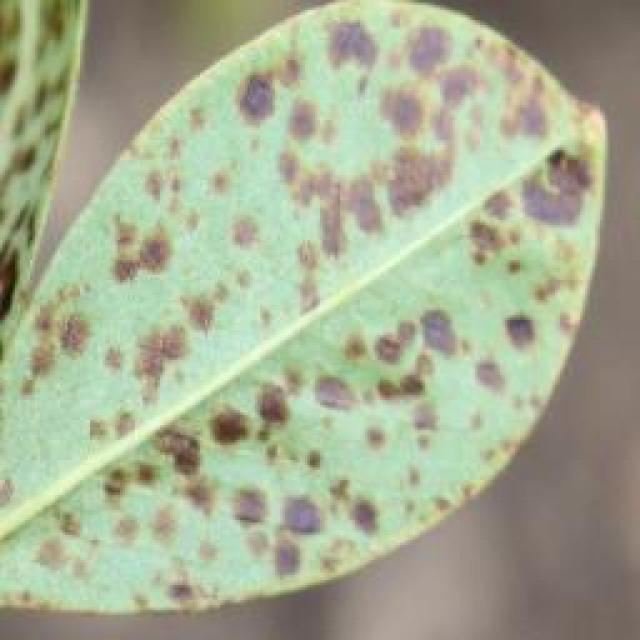Whitefly: (0, 0, 587, 595)
